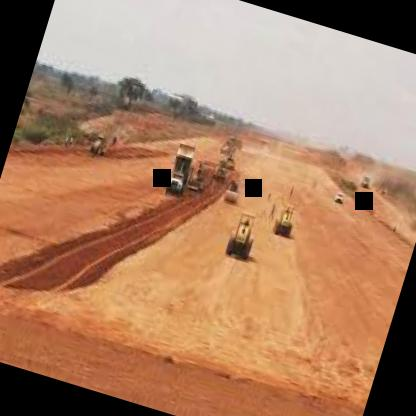car: (152, 124, 211, 210), (79, 116, 122, 163), (325, 181, 348, 214), (358, 164, 376, 192)
